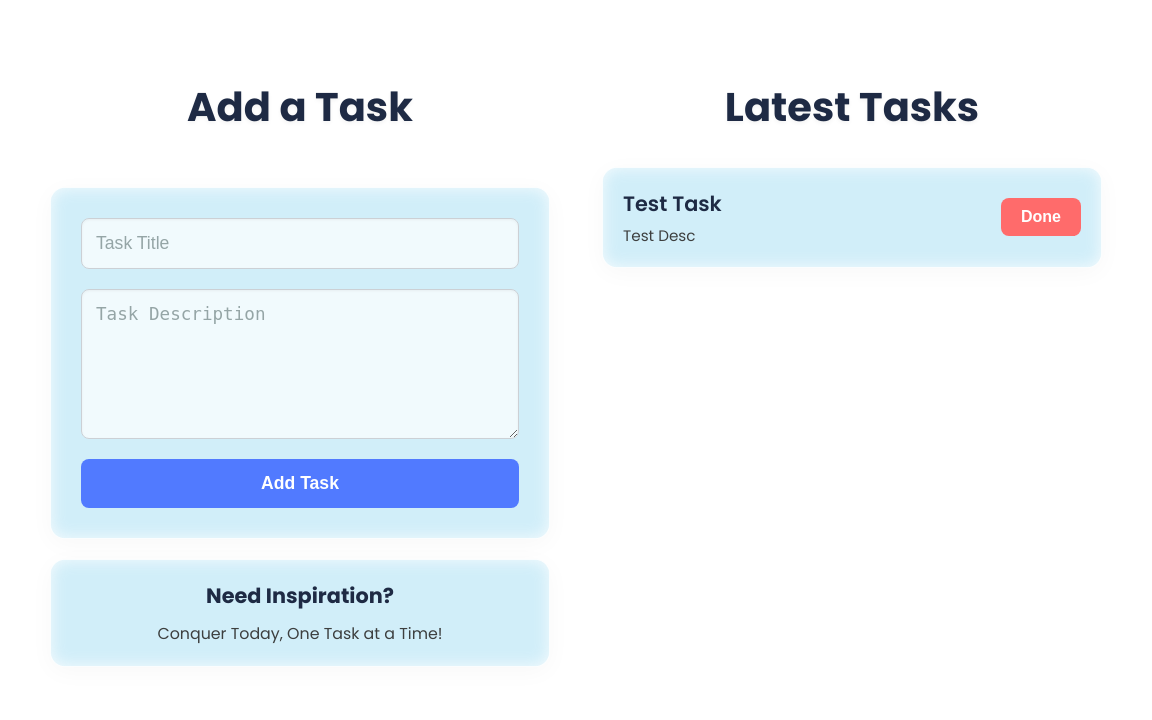
Test case: App Component › shows duplicate popup
The width and height of the screenshot is (1152, 720).
Step 1. Type "Test Task" into the field with placeholder "Task Title" → (300, 243), box [81,218,519,269]
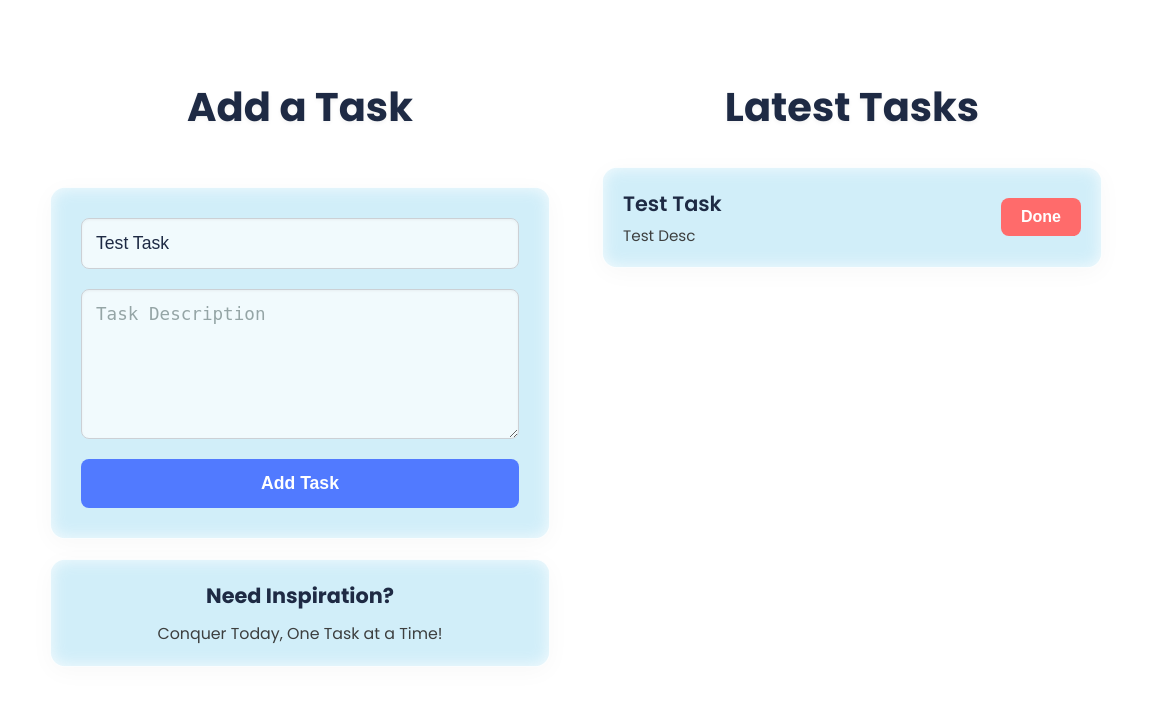
Step 2. Type "Test Desc" into the text box with placeholder "Task Description" → (300, 364), box [81,289,519,439]
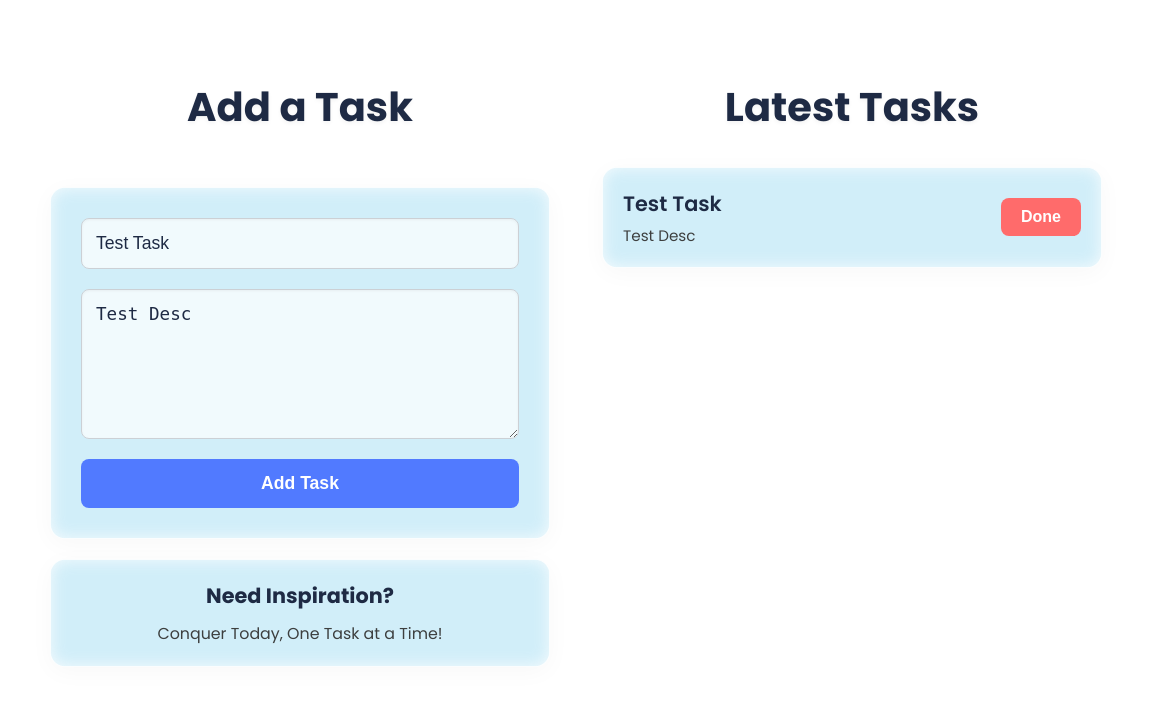
Step 3. Click the button "Add Task" → (300, 483), box [81,459,519,508]
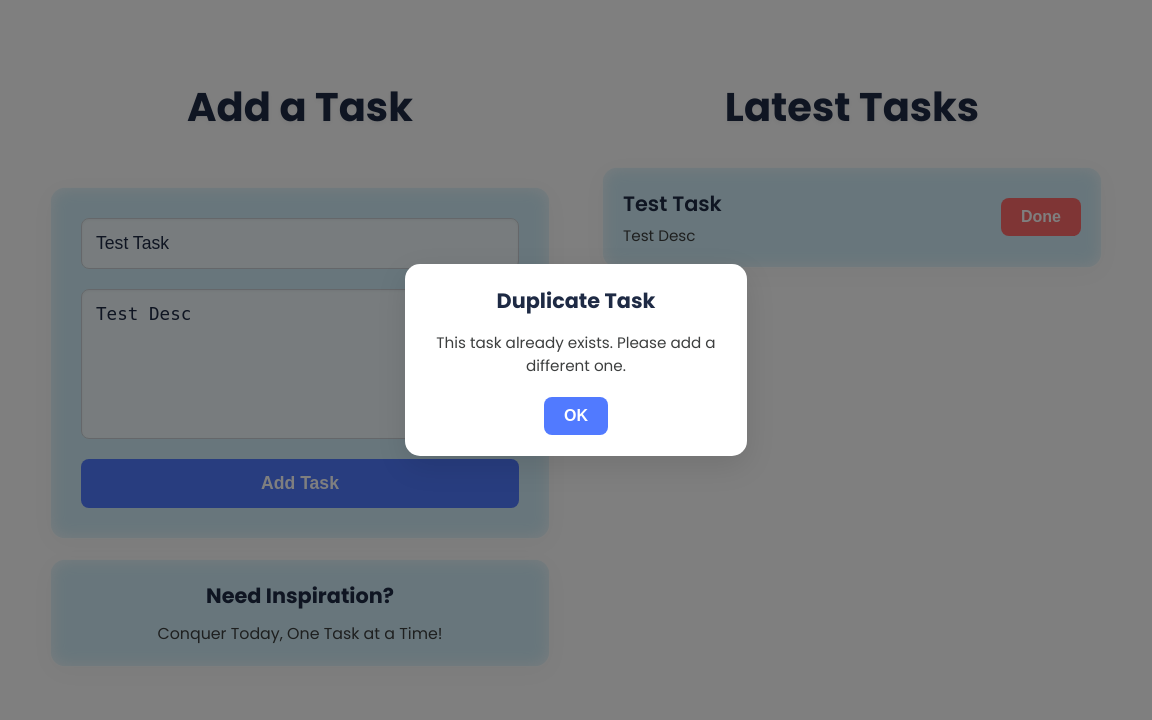
Now the heading "Duplicate Task" is shown, box [497,286,655,315]
Now the text "This task already exists. Please add a different one." is shown, box [426,331,726,377]
